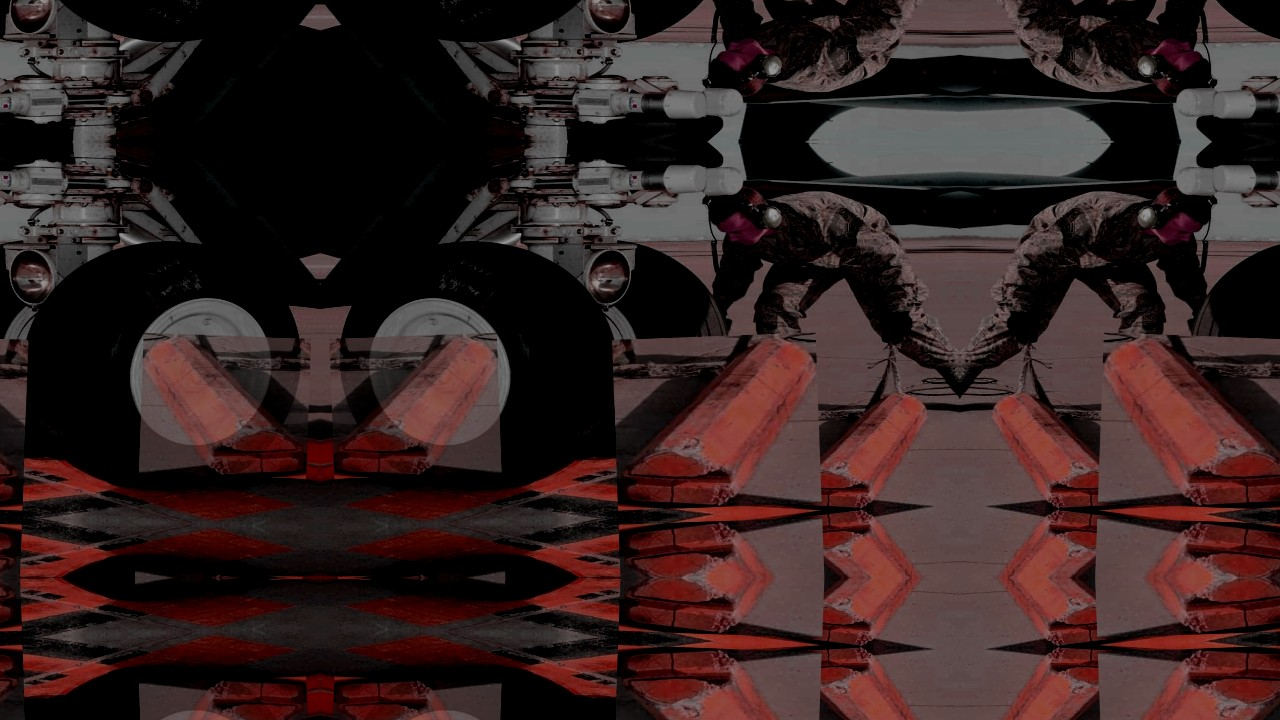chock: (612, 332, 822, 511), (1098, 332, 1280, 511), (138, 333, 311, 479), (329, 333, 502, 479), (787, 389, 931, 512), (989, 389, 1133, 512), (612, 645, 822, 720), (1098, 645, 1280, 720), (619, 518, 828, 578), (619, 578, 828, 638), (1092, 518, 1280, 578), (1092, 578, 1280, 638), (787, 644, 931, 720), (989, 644, 1133, 720), (791, 507, 936, 578), (984, 507, 1129, 578), (791, 578, 936, 649), (984, 578, 1129, 649), (138, 677, 311, 720), (329, 677, 502, 720), (0, 332, 28, 511), (0, 518, 21, 578), (0, 578, 21, 638)
wheel: (17, 236, 300, 491), (340, 236, 623, 491), (568, 236, 732, 457), (1188, 236, 1280, 457), (0, 236, 72, 457), (17, 665, 300, 720), (340, 665, 623, 720), (17, 0, 300, 47), (340, 0, 623, 47), (568, 0, 732, 47), (1188, 0, 1280, 47)
